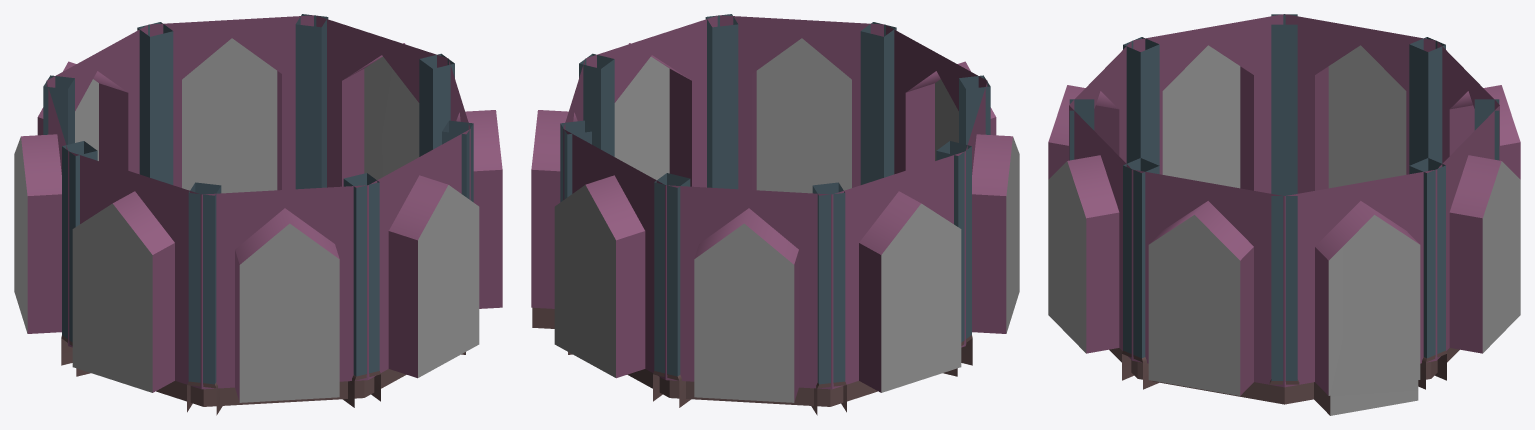
File: Blockout_MainMenu_MageRoom.fbx
The picture shows the model from 3 angles, left to right: view 1: azimuth 30°, elevation 25°; view 2: azimuth 150°, elevation 25°; view 3: azimuth 270°, elevation 25°; orthographic projection.
Parts seen in each view (by area): view 1: Blockout_MainMenu_MageRoom; view 2: Blockout_MainMenu_MageRoom; view 3: Blockout_MainMenu_MageRoom.
Boxes of the visible parts, <box> form: Blockout_MainMenu_MageRoom: <box>14,14,502,415</box>; Blockout_MainMenu_MageRoom: <box>531,14,1019,415</box>; Blockout_MainMenu_MageRoom: <box>1048,14,1520,415</box>.
Bounding box in the file's own units: 15.83 × 8.18 × 15.83.
